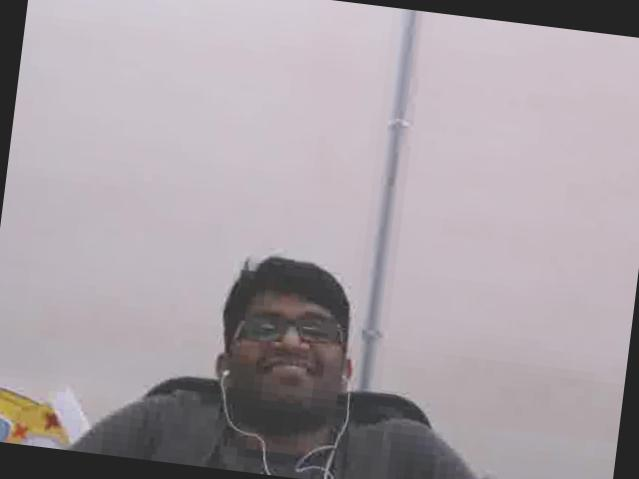bosan: (227, 280, 345, 408)
